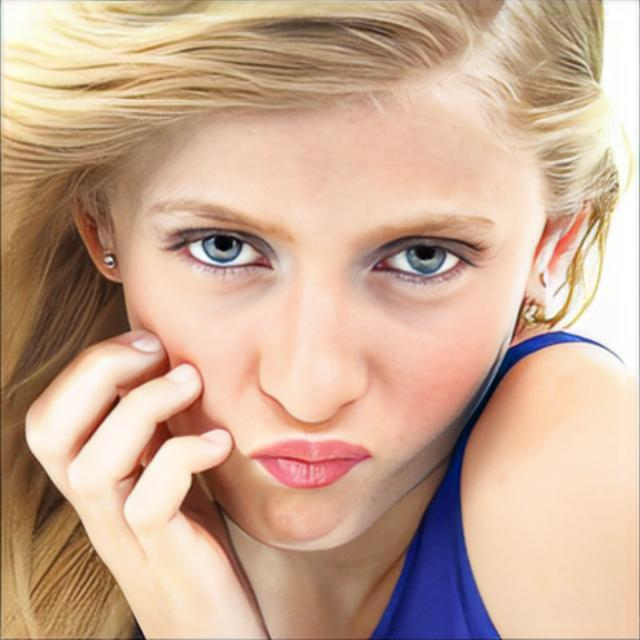anger: (112, 82, 528, 561)
